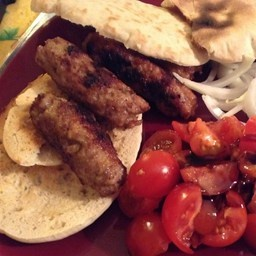background: (0, 0, 102, 102)
